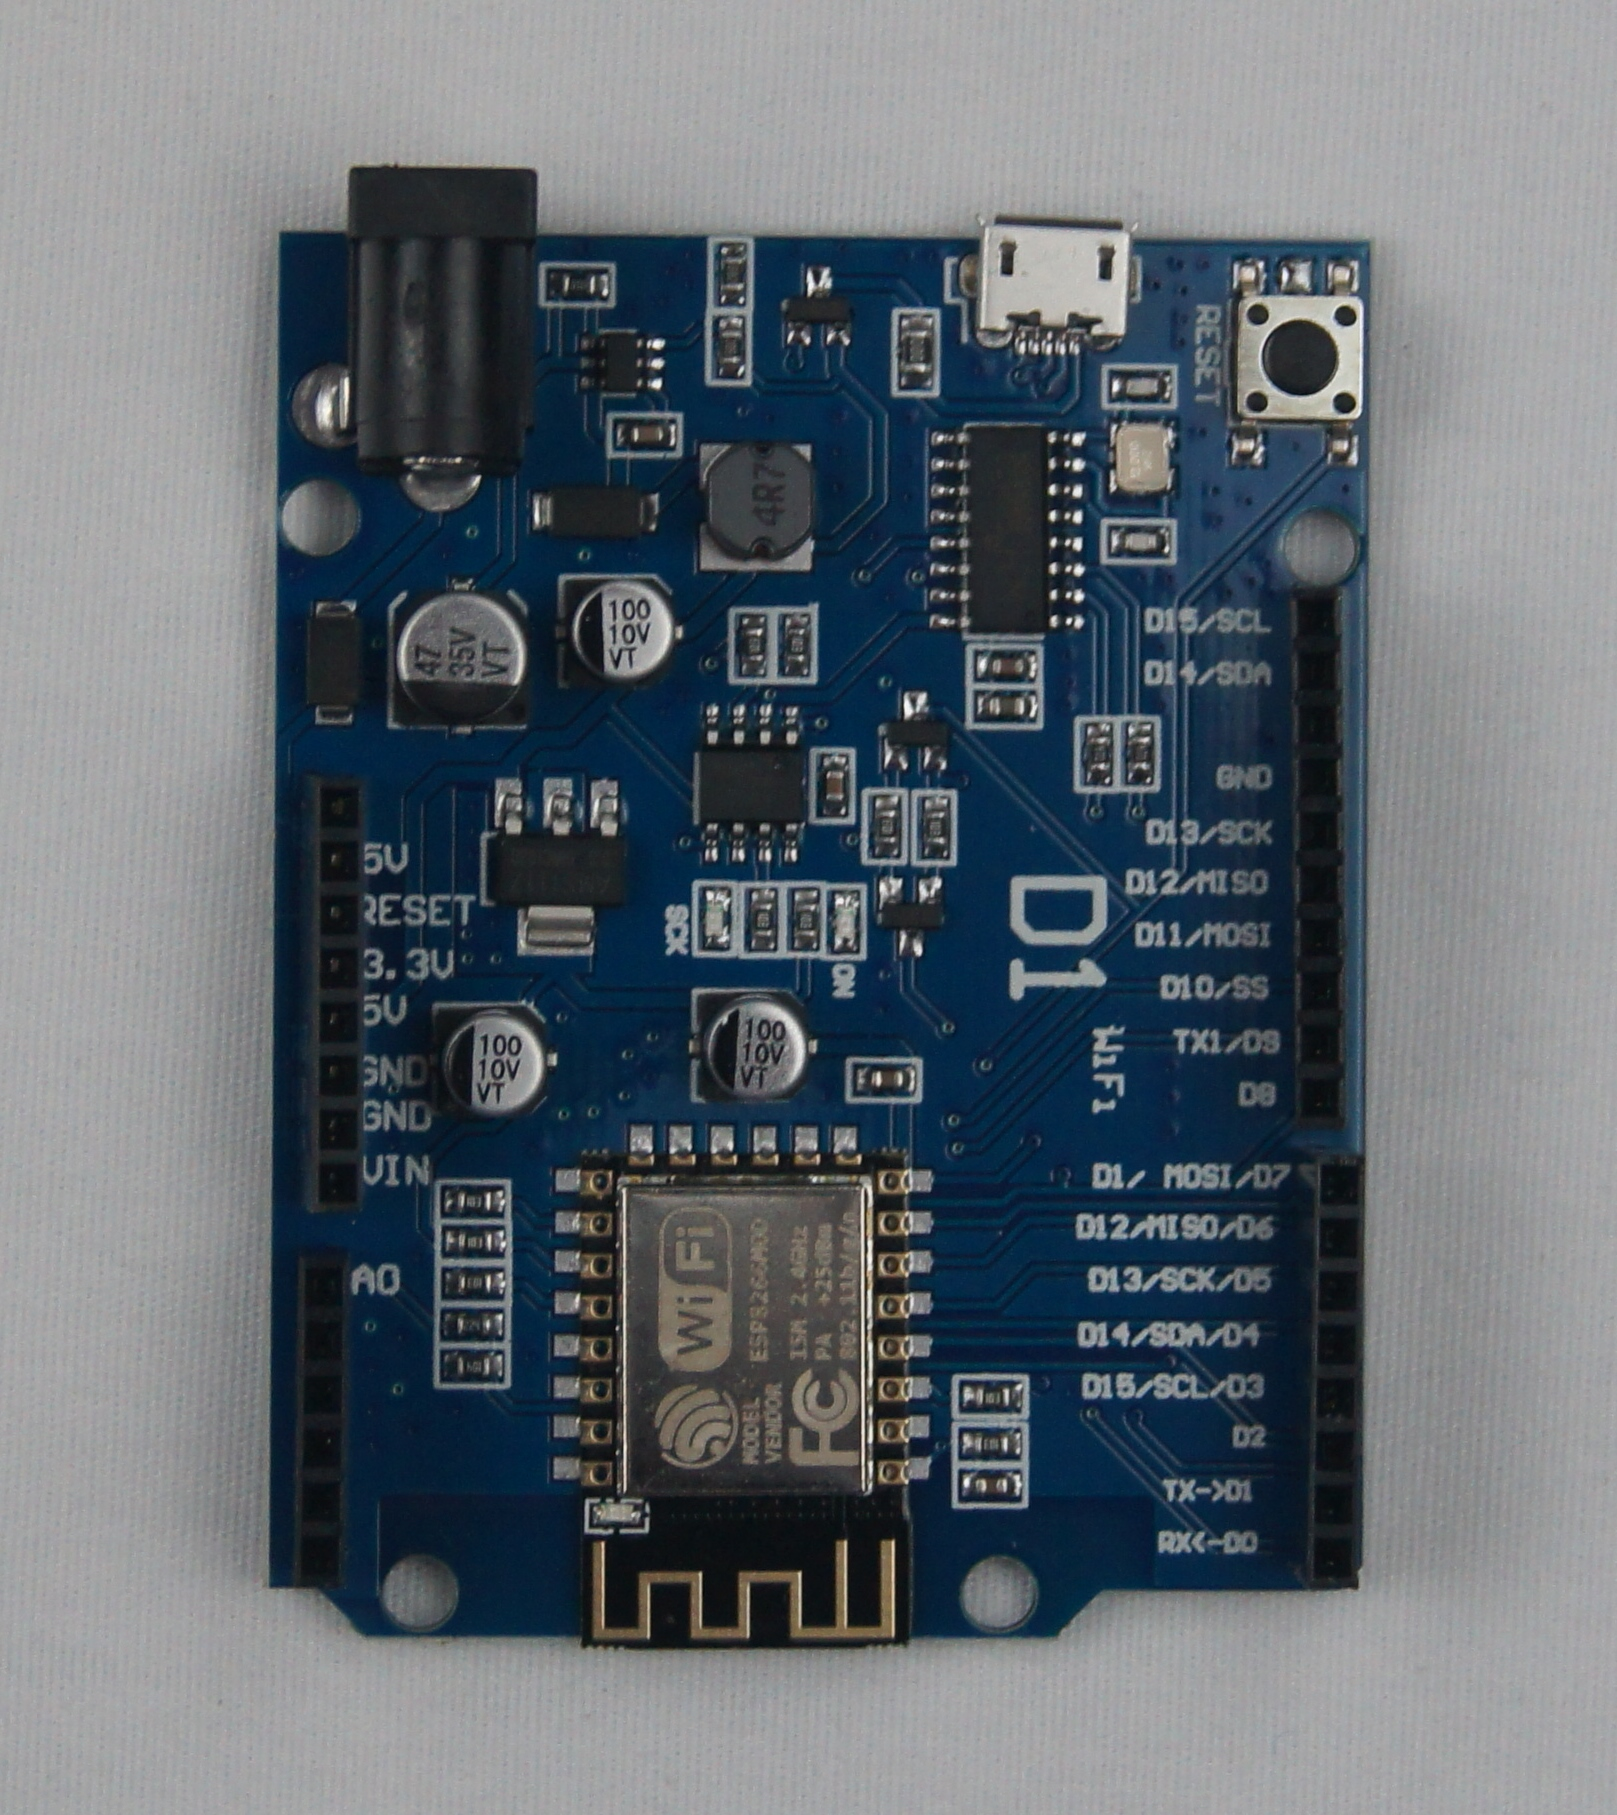resistor: (897, 312, 938, 390), (957, 1380, 1027, 1417), (921, 793, 957, 861), (442, 1181, 509, 1217), (439, 1350, 507, 1384), (443, 1224, 509, 1259), (440, 1266, 506, 1302), (779, 612, 815, 677), (546, 265, 609, 303), (439, 1306, 506, 1341), (737, 610, 771, 677), (748, 883, 780, 952), (957, 1428, 1024, 1461), (715, 315, 748, 379), (716, 240, 748, 304), (872, 794, 902, 858), (791, 883, 819, 949)
